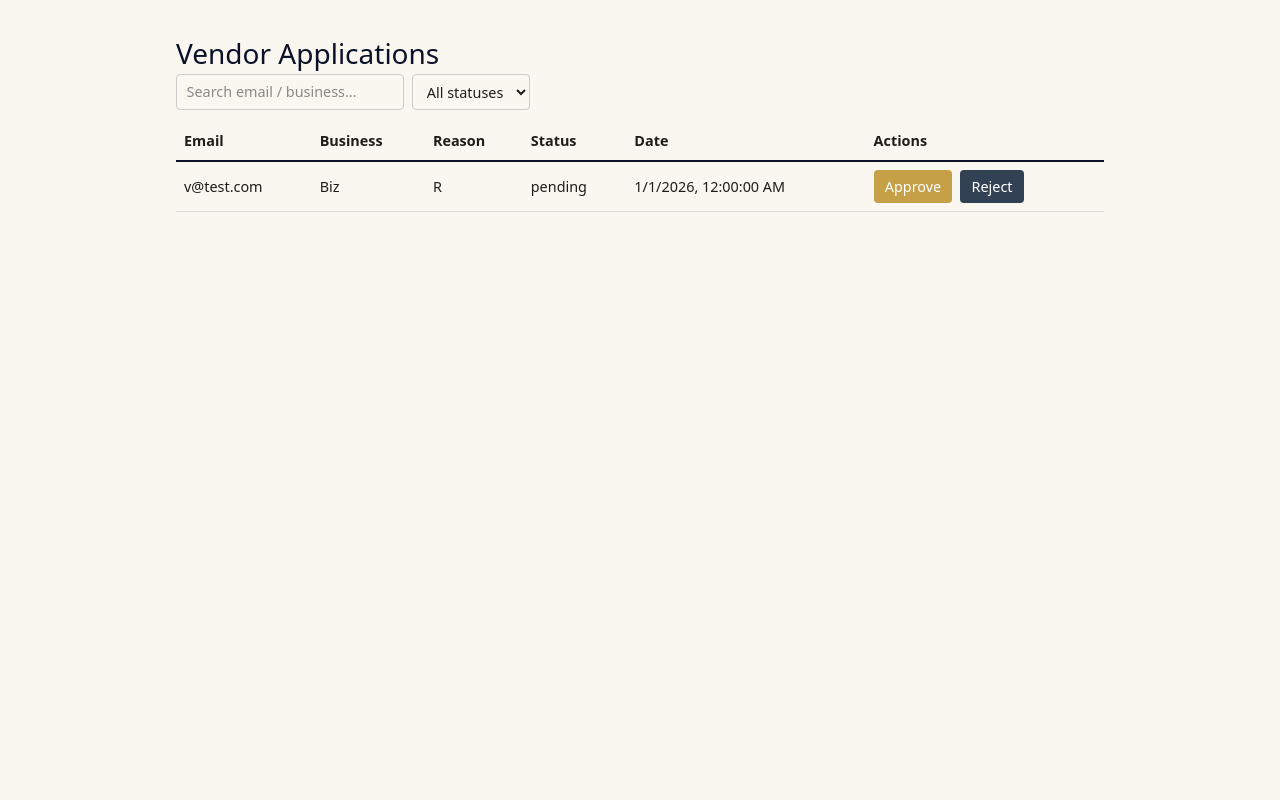
Test case: Admin vendor-applications › loads applications, approves one, and refreshes the list
Expected: the text "v@test.com" is shown, [176,161,312,211]
Step 1. Click the button "Approve" → [913, 186], box [874,170,952,203]
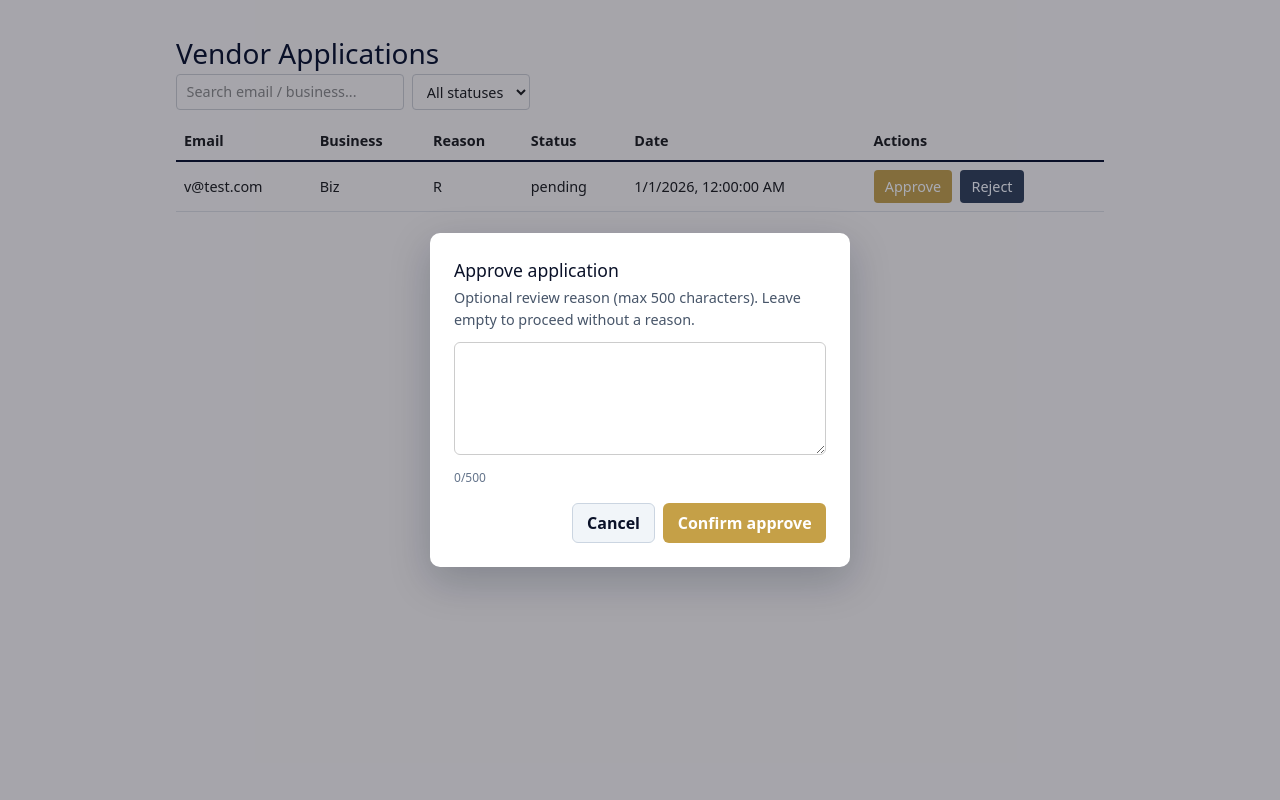
Expected: the dialog is shown
Step 2. Click the button "Confirm approve" → [745, 523], box [663,503,826,543]
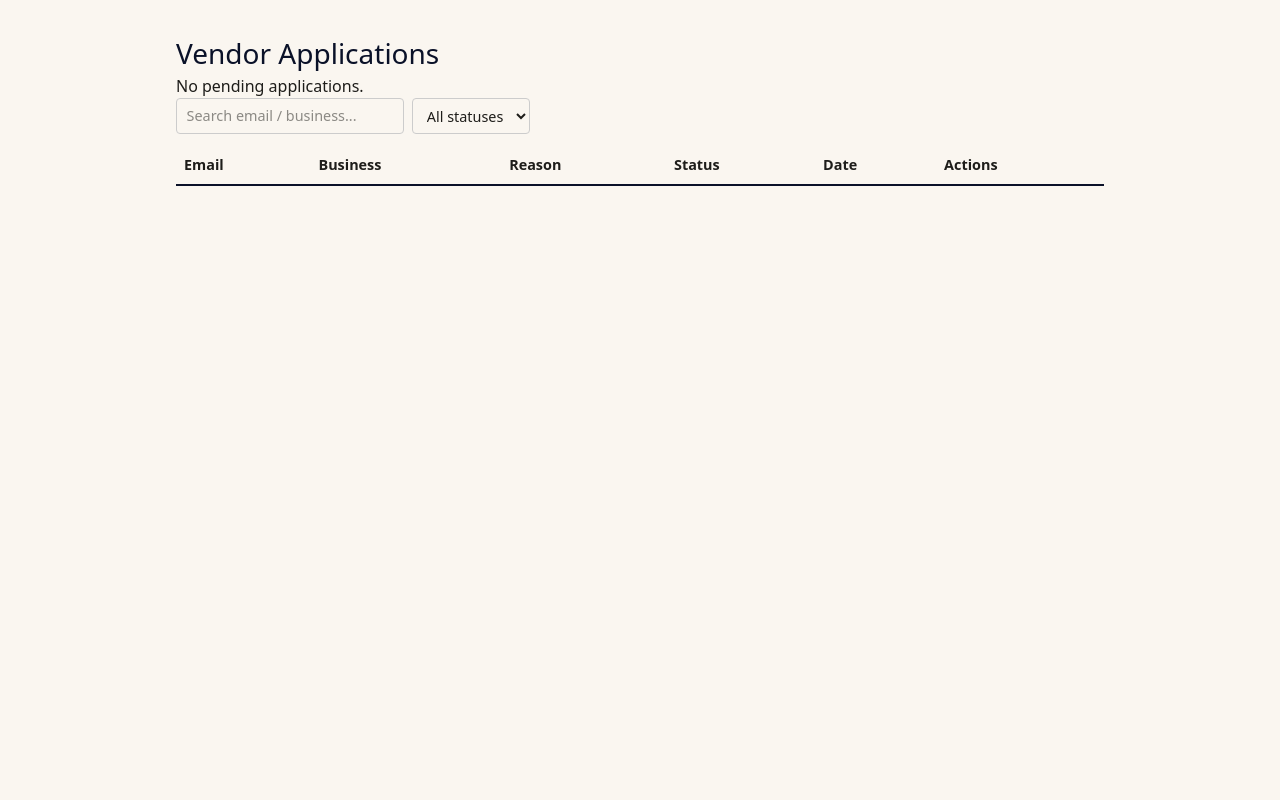
Expected: the text "No pending applications." is shown, [176,75,364,97]
